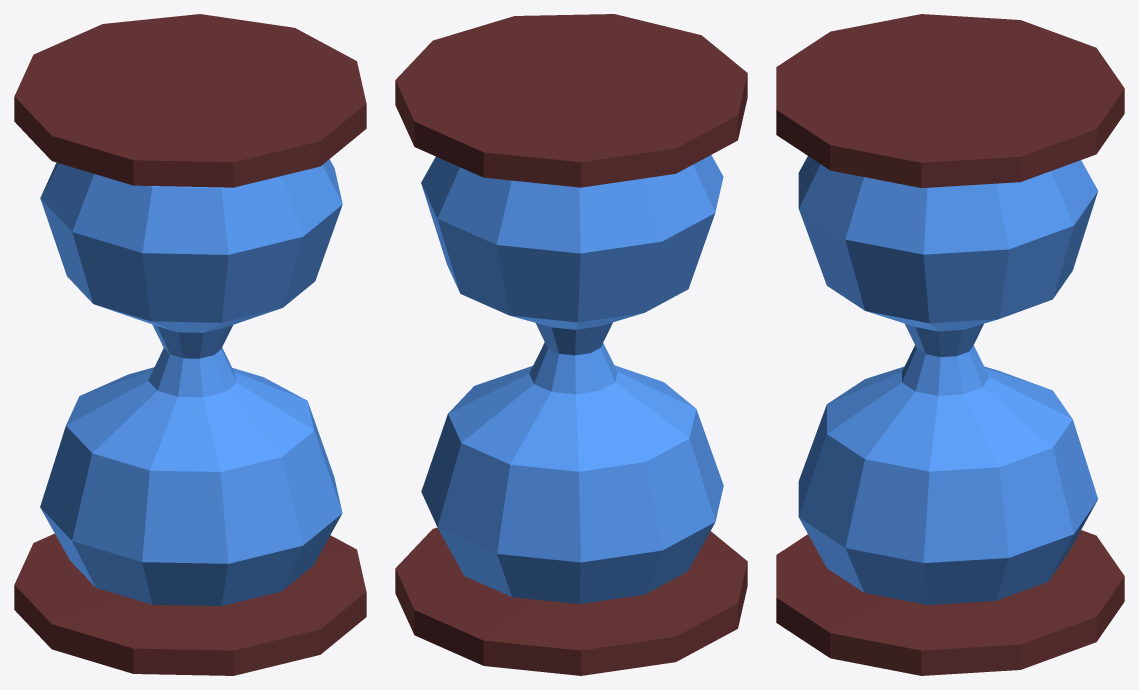
File: Hour_Glass.fbx
The picture shows the model from 3 angles, left to right: view 1: azimuth 30°, elevation 25°; view 2: azimuth 150°, elevation 25°; view 3: azimuth 270°, elevation 25°; orthographic projection.
Visible parts, largest first — view 1: Cylinder; view 2: Cylinder; view 3: Cylinder.
Boxes of the visible parts, x1=… form: Cylinder: x1=14, y1=14, x2=366, y2=675; Cylinder: x1=395, y1=14, x2=747, y2=675; Cylinder: x1=776, y1=14, x2=1124, y2=675.
Size of the model in its own units: 198 by 318 by 196.
